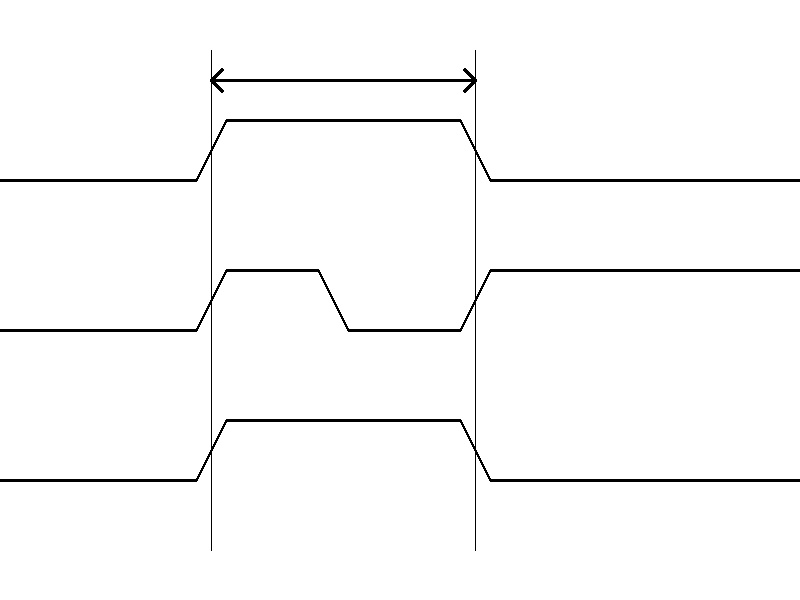double_arrow: (211, 65, 475, 95)
